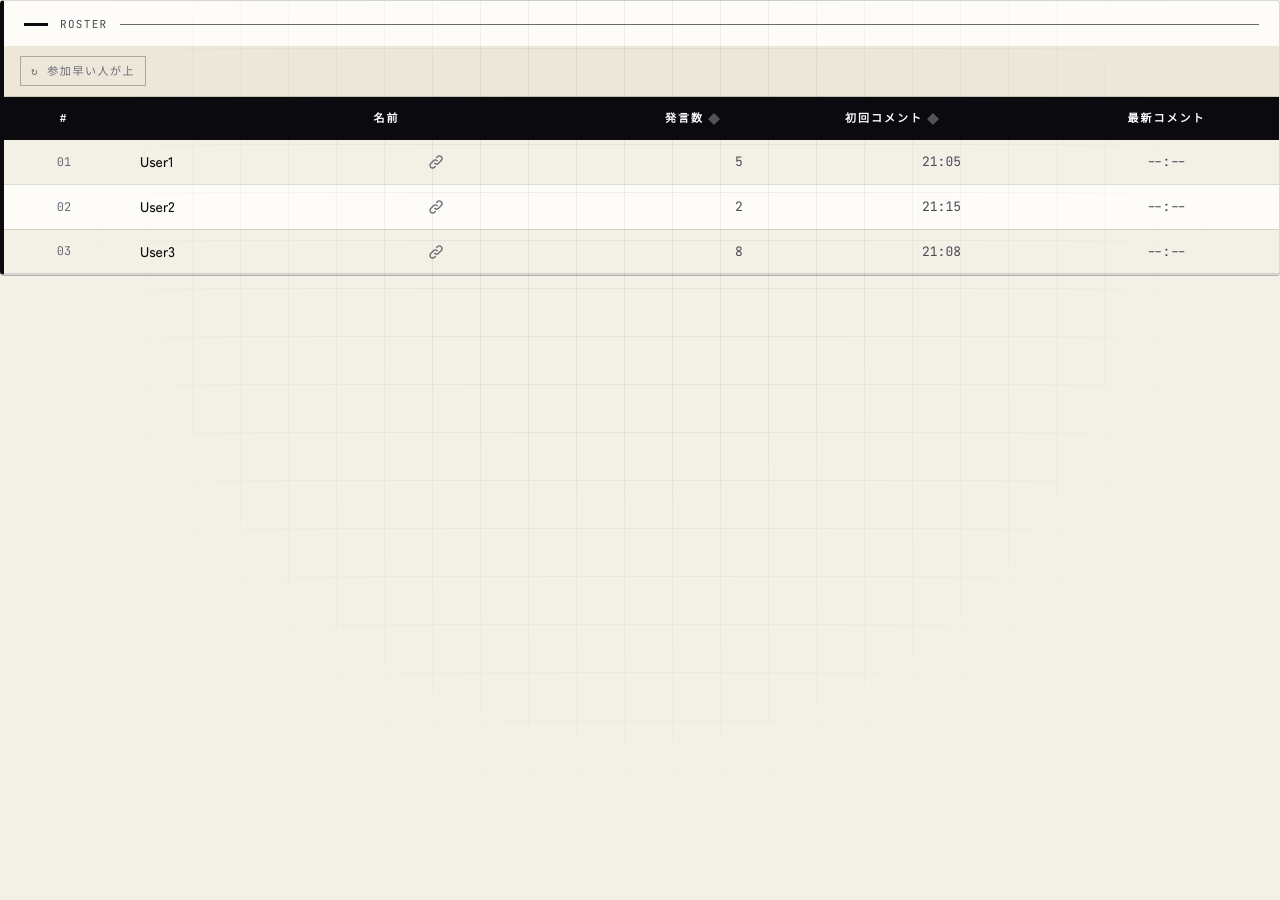
UserTable コンポーネント › ソート機能 › ソートリセットボタンクリックで初期表示順に戻る
Click the button "発言数". click: (692, 119)
box: [665,109,720,128]
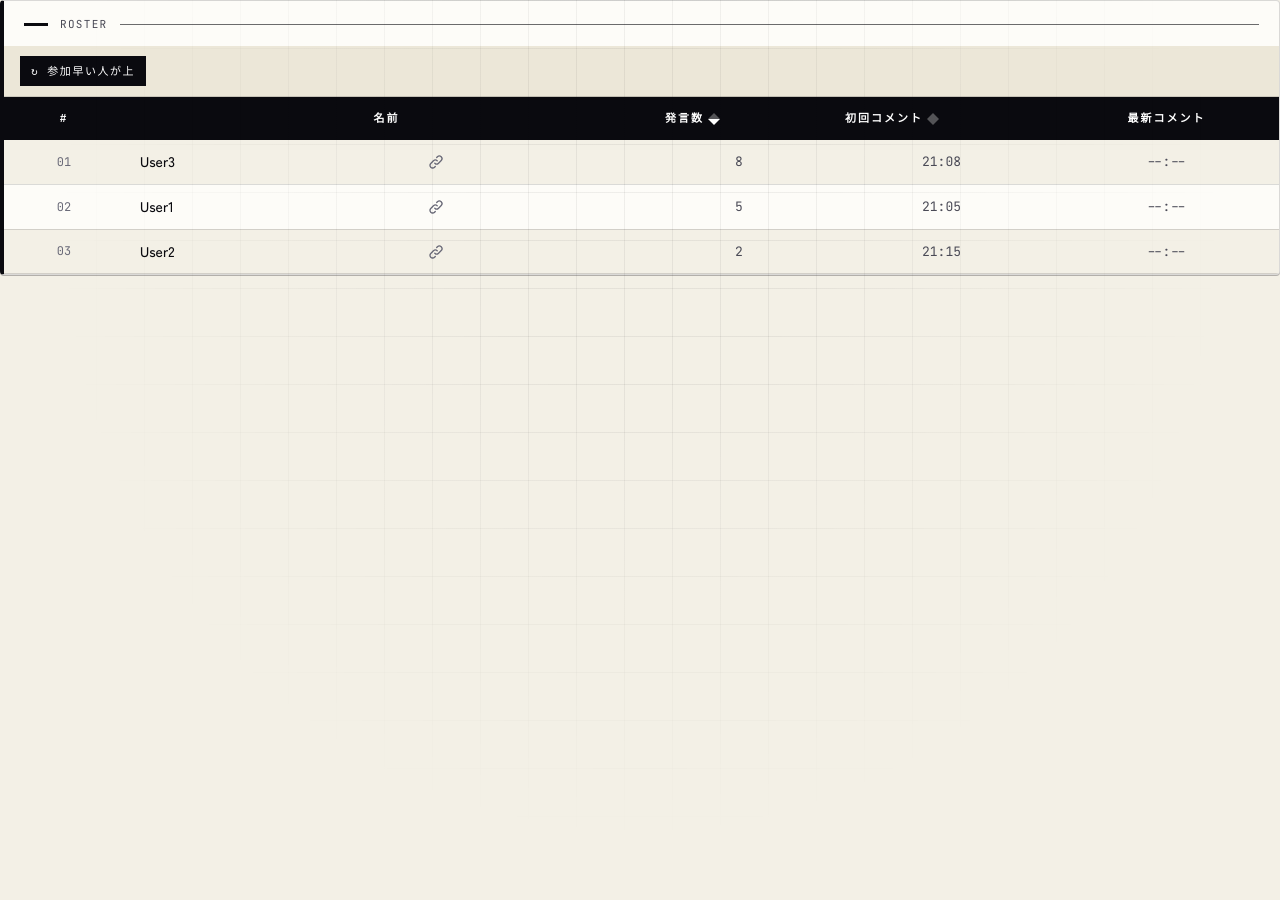
Check: the row "01 User3 8 21:08 --:--" is shown, box [4,140,1279,184]
// リセットボタンクリック
Click the button with aria-label "ソートリセット". click: (83, 71)
box: [20,56,146,86]
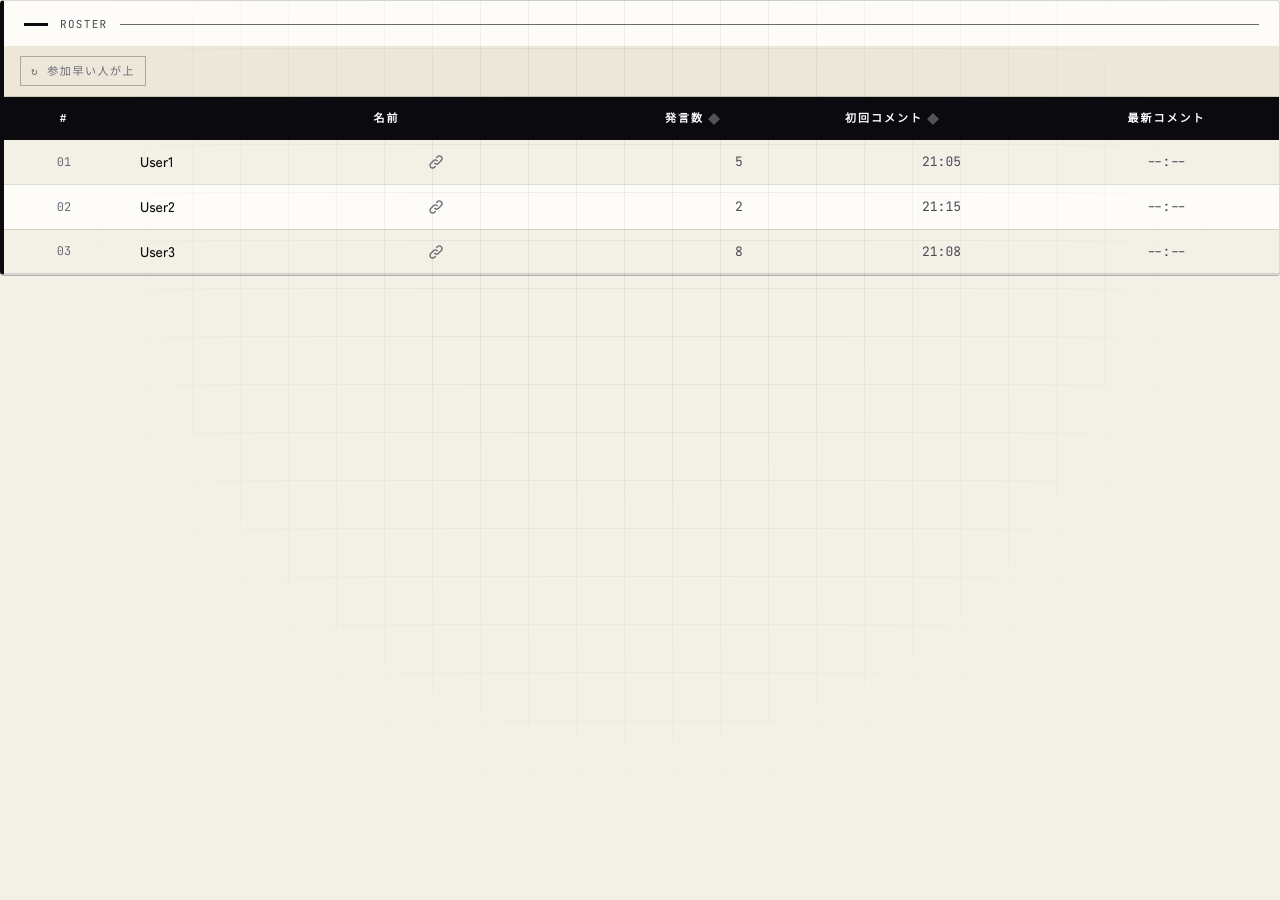
Check: the row "01 User1 5 21:05 --:--" is shown, box [4,140,1279,184]
Check: the row "02 User2 2 21:15 --:--" is shown, box [4,184,1279,229]
Check: the row "03 User3 8 21:08 --:--" is shown, box [4,229,1279,274]
